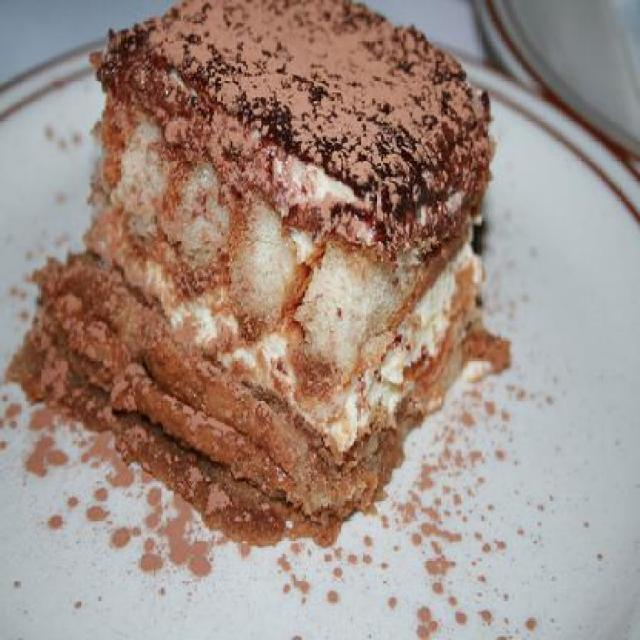Tiramisu: (80, 14, 478, 502)
